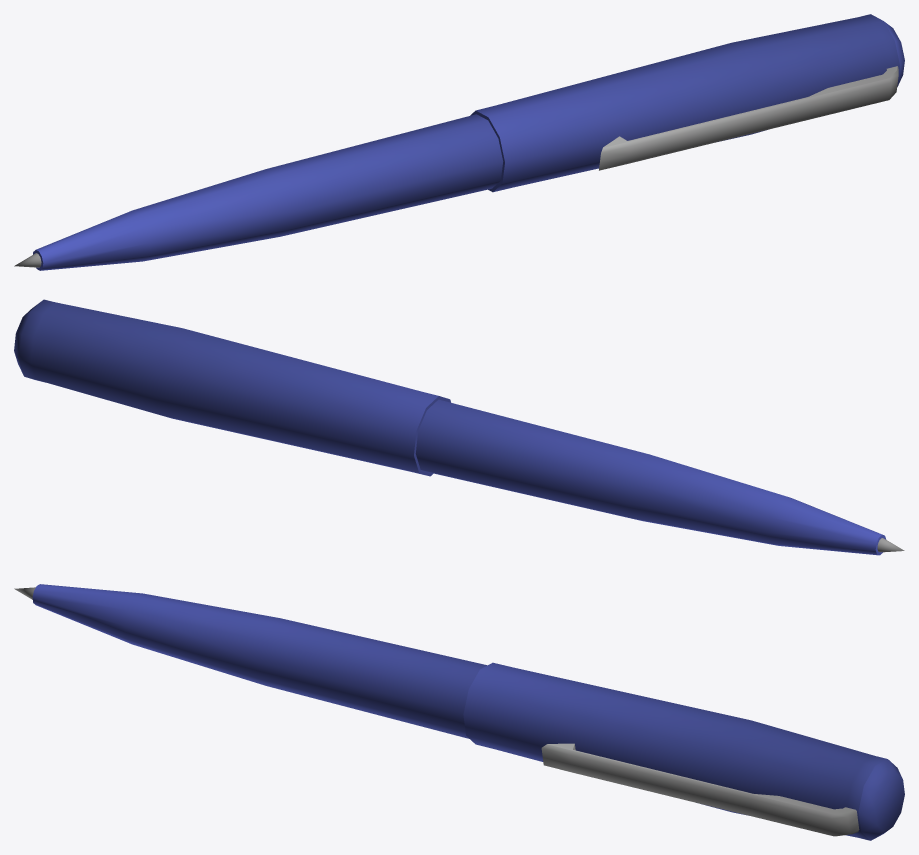
The model's file is Pen2.fbx.
3 views of the same model, one above another, from view 1: azimuth 30°, elevation 25°; view 2: azimuth 150°, elevation 25°; view 3: azimuth 330°, elevation 25° (orthographic).
Parts seen in each view (by area): view 1: Pen2; view 2: Pen2; view 3: Pen2.
Part boxes in pixels (<box>): Pen2: <box>14,14,904,270</box>; Pen2: <box>14,299,904,555</box>; Pen2: <box>14,584,904,840</box>.
Size of the model in its own units: 1118 by 102 by 118.
